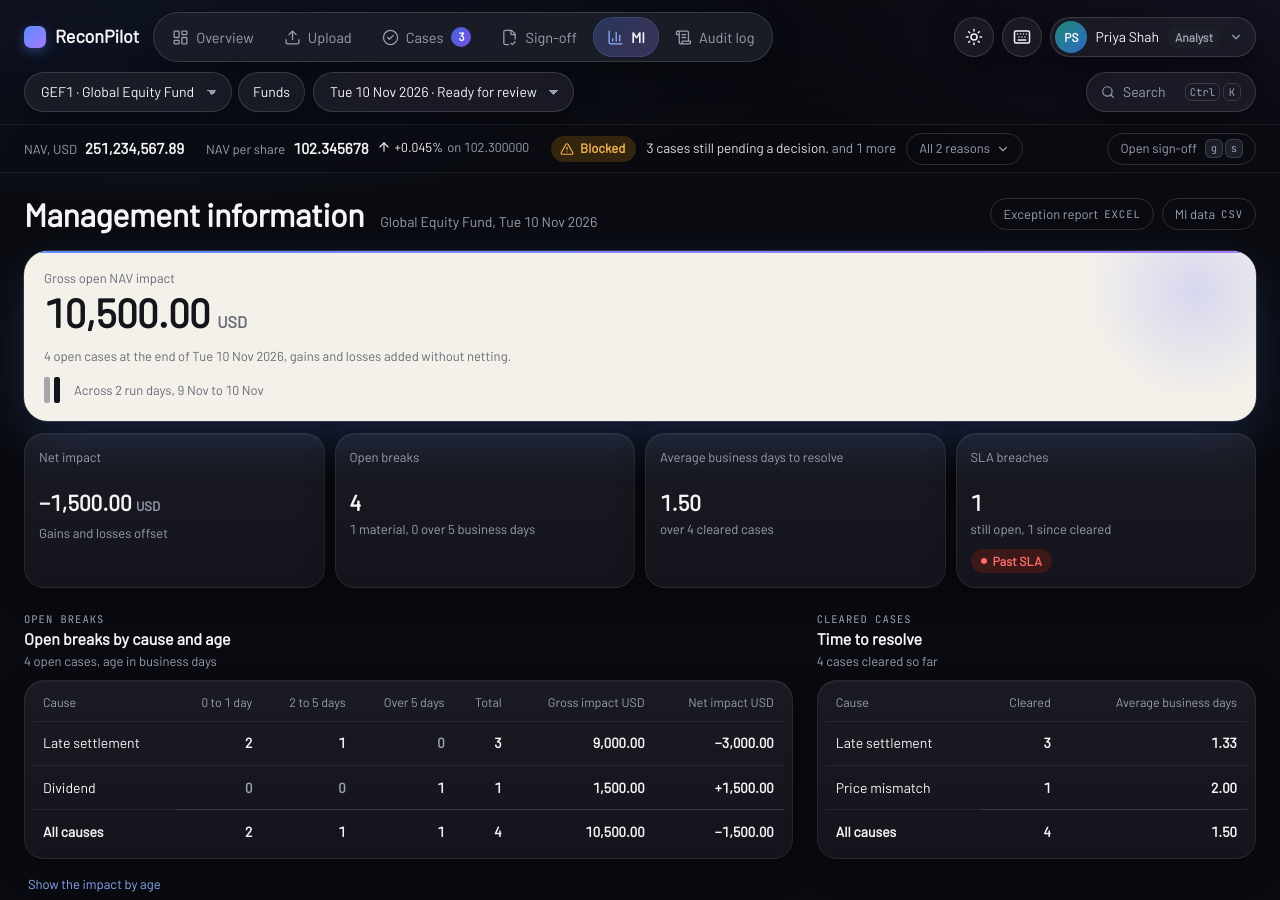
MiScreen › exports › shows a refused export in the server's words and saves nothing
The image size is (1280, 900).
What coordinates should you click on to do the following:
click the button "Exception report Excel"
I would click on:
 (1072, 214)
Its box is 990,198 -> 1154,230.
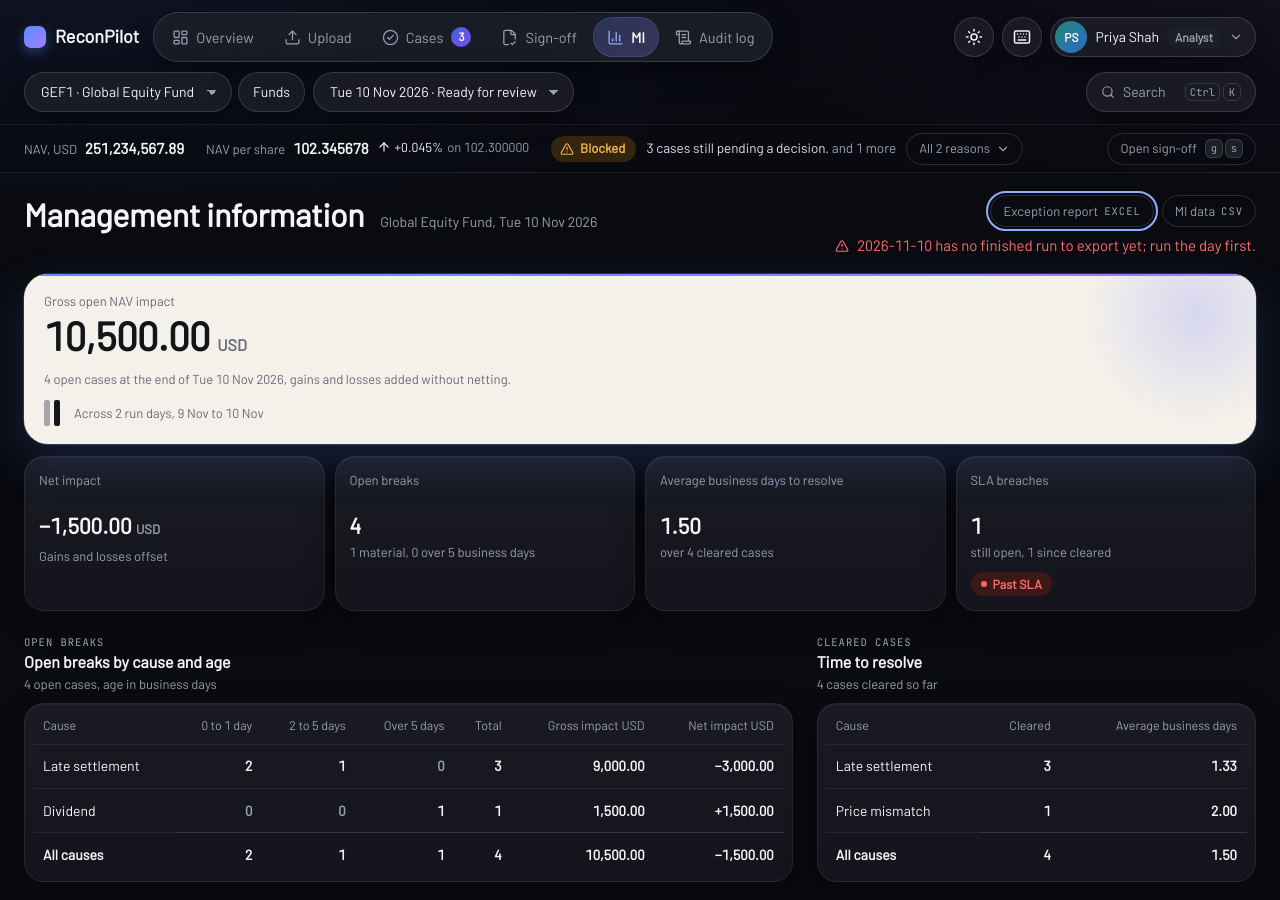
Now the message reads "2026-11-10 has no finished run to export yet; run the day first.", box 857,236 -> 1256,254
